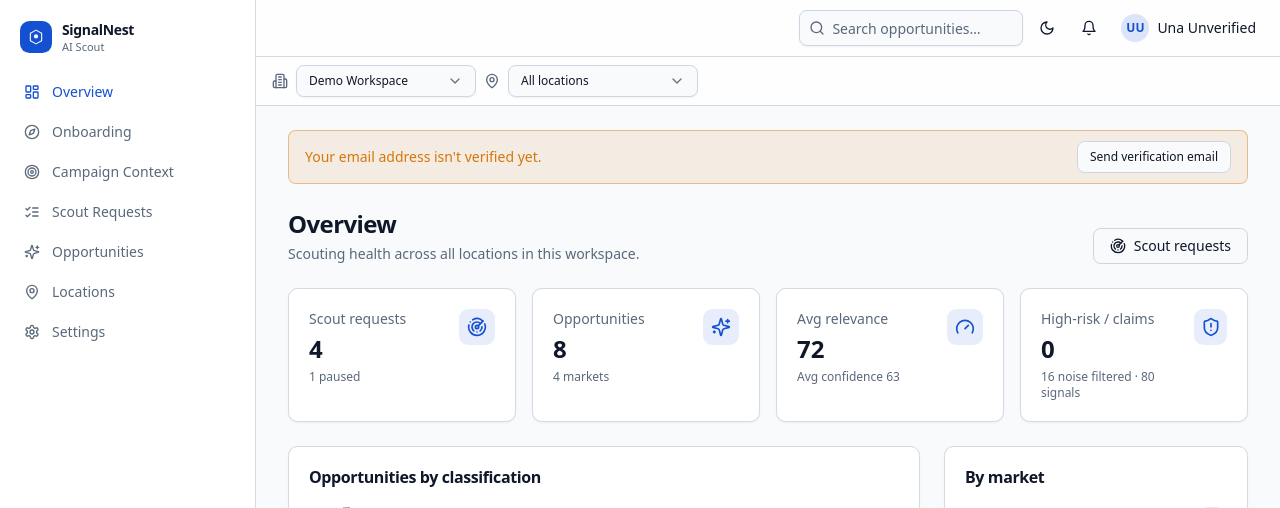
Test: the email-verification banner › a server failure gets calm copy of its own, never the server text
Step 1. Click the button "Send verification email" → [1154, 157], box [1077,141,1231,173]
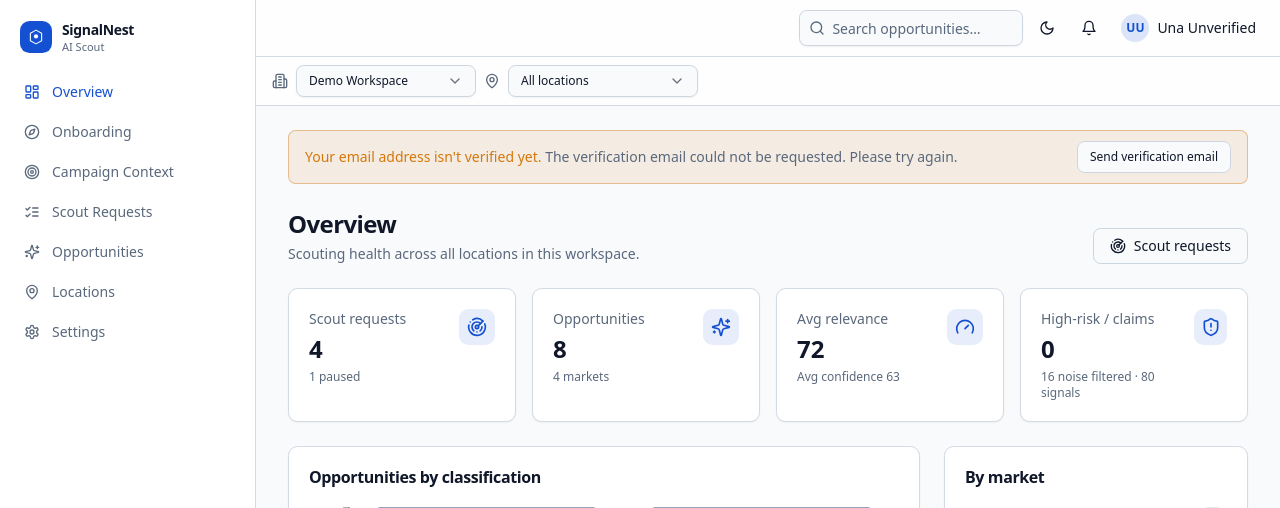
expect the text "The verification email could not be requested. Please try again." is shown: met, box [542,147,958,166]
